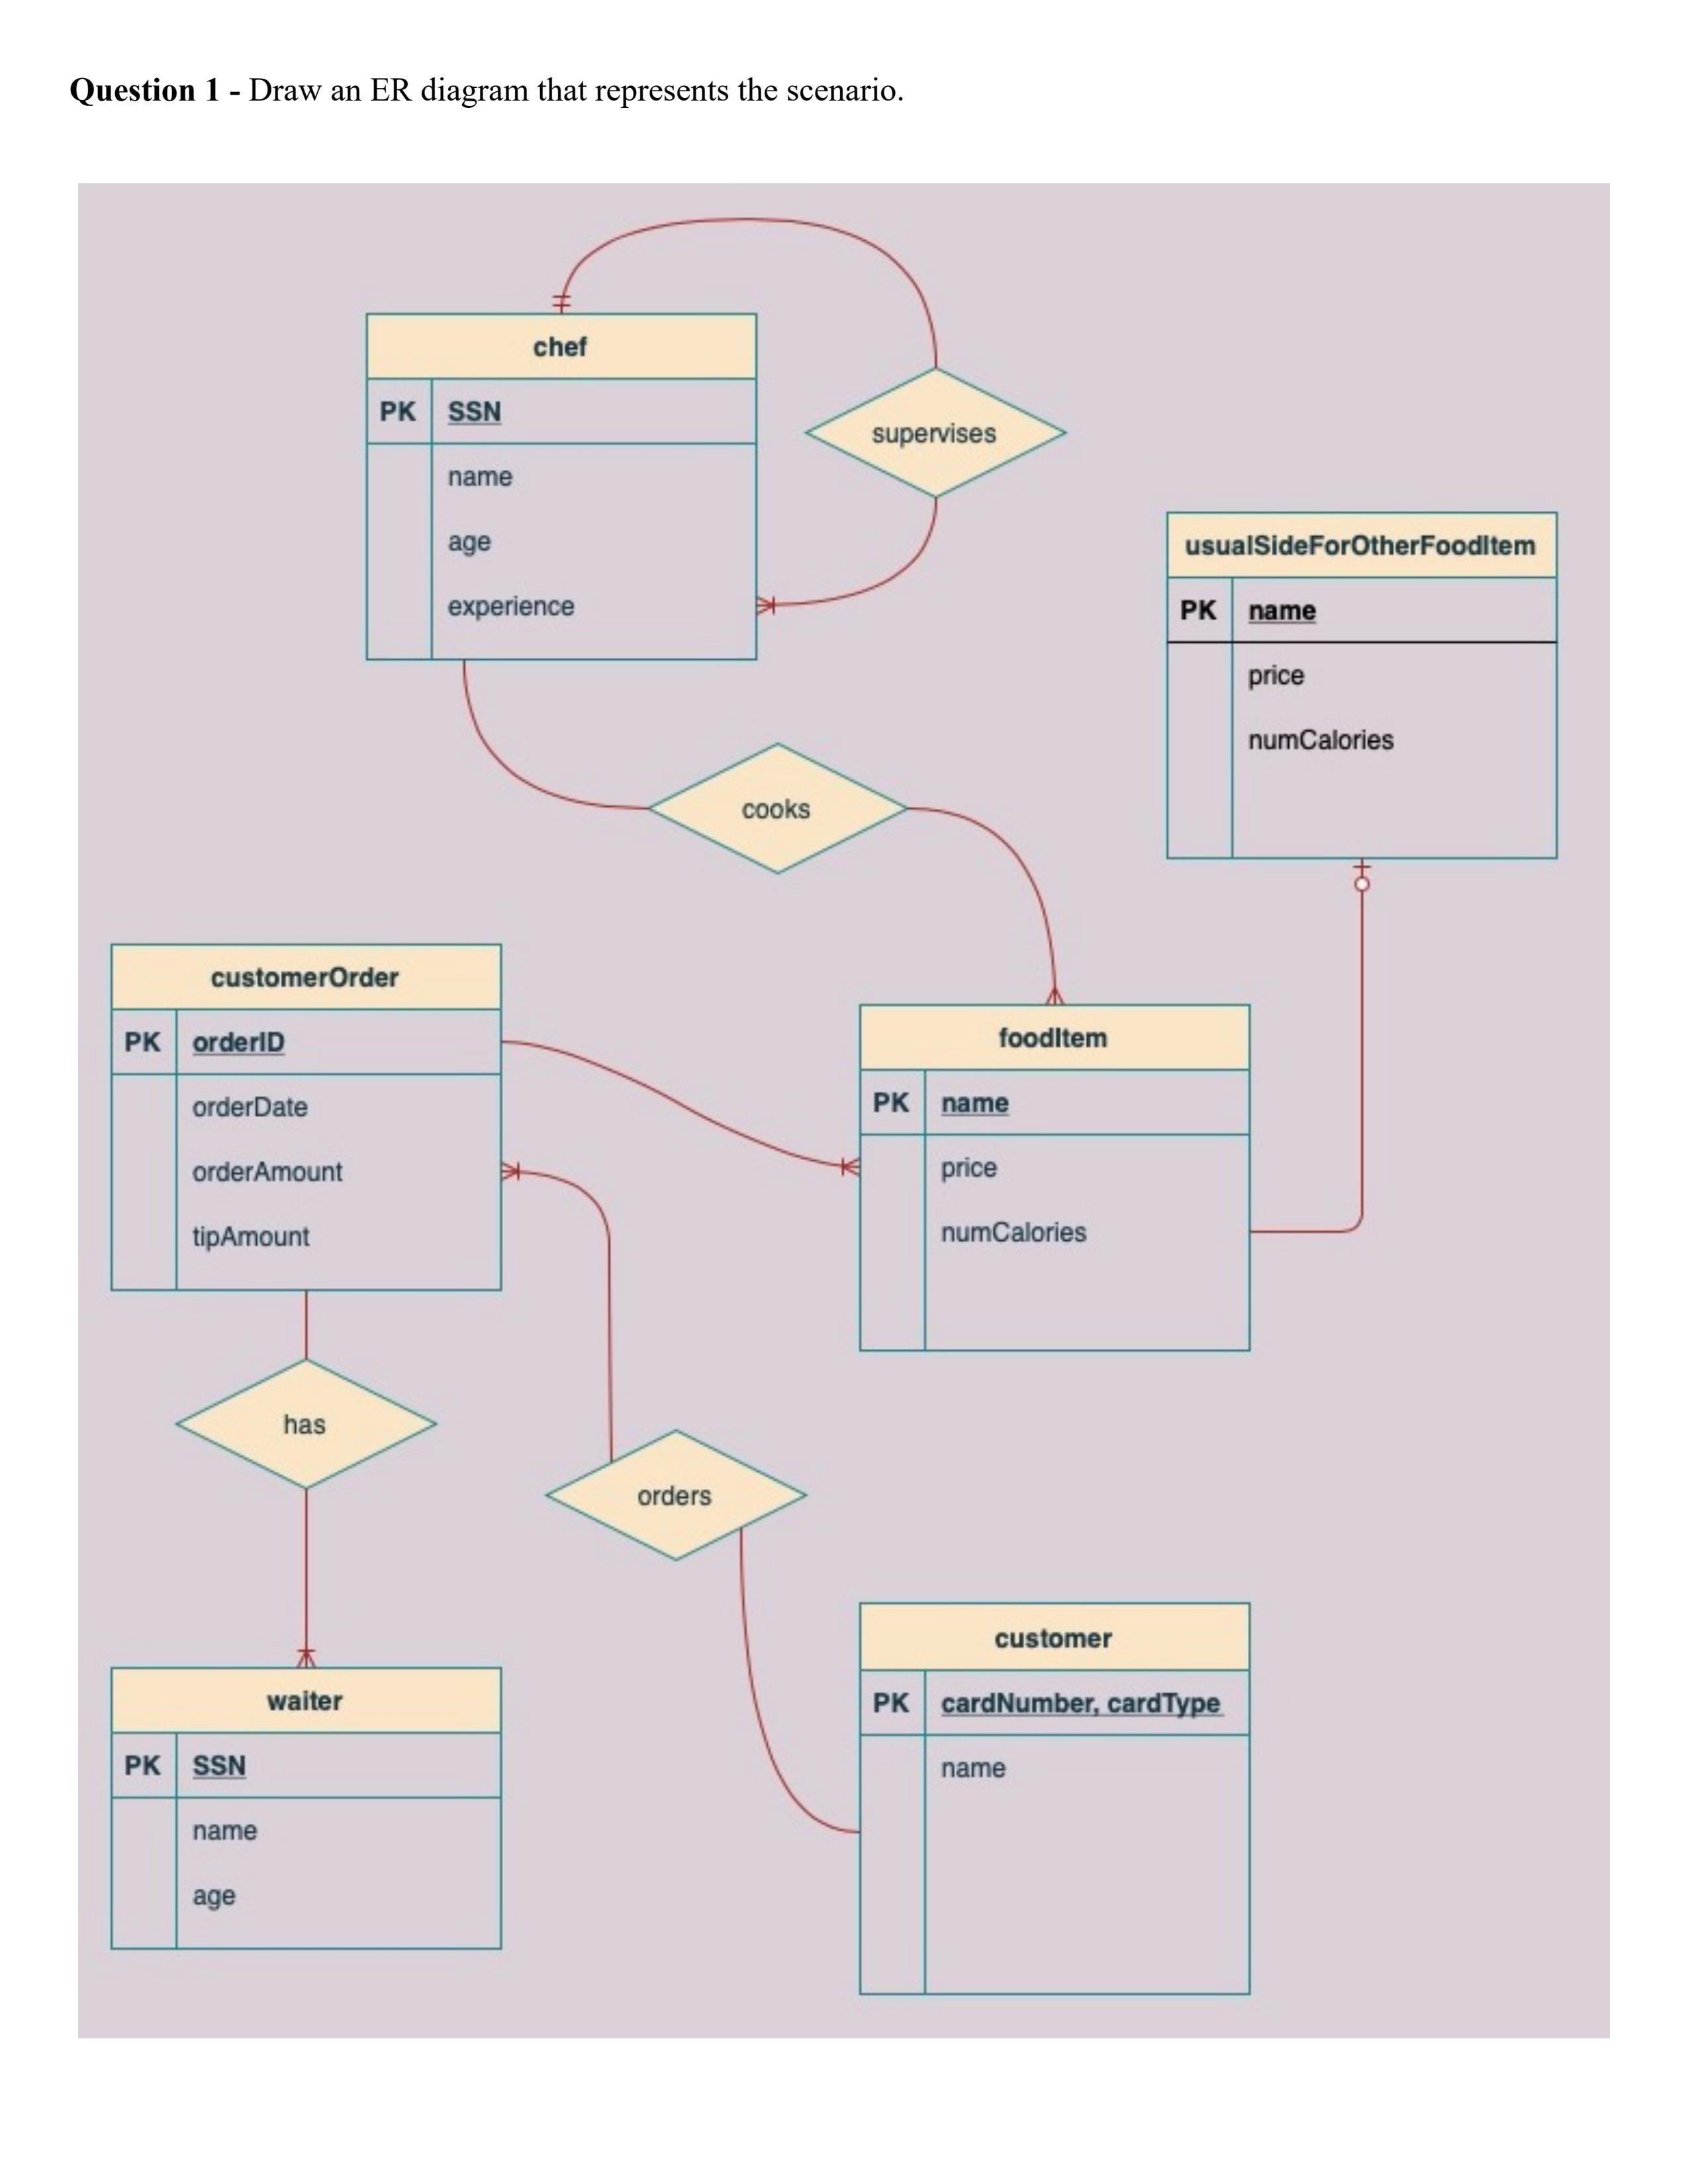Entity: (840, 1594, 1266, 2016), (842, 998, 1264, 1365), (98, 936, 514, 1301), (1158, 507, 1569, 874), (358, 308, 764, 670), (98, 1661, 514, 1959)
Relationship: (642, 734, 917, 883), (541, 1427, 821, 1564), (172, 1353, 445, 1489), (803, 367, 1076, 502)
